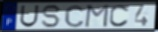4: (133, 4, 149, 28)
C: (64, 4, 86, 29), (109, 4, 131, 28)
M: (84, 4, 111, 28)
S: (42, 4, 64, 29)
U: (19, 4, 40, 28)
